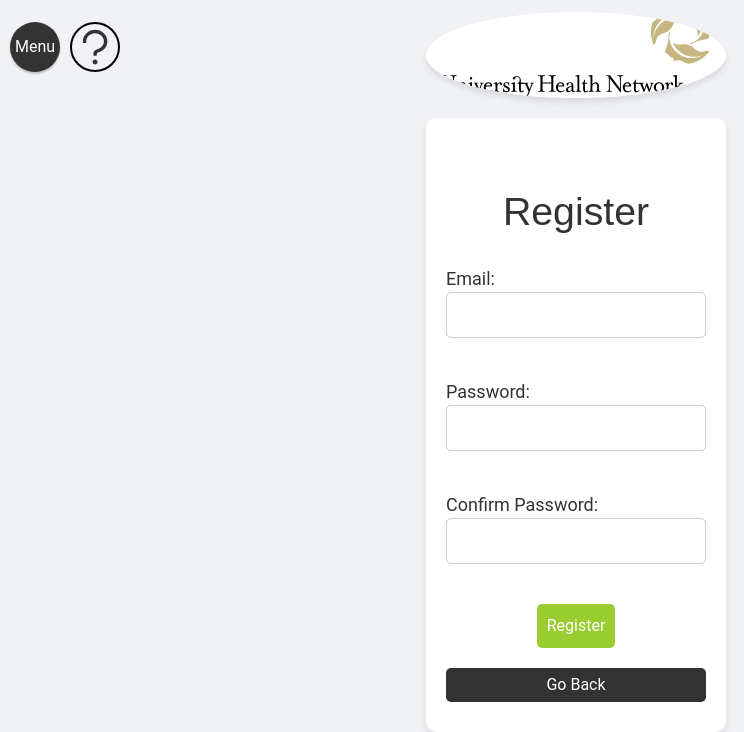
Test: displays error message if registration fails
In the field labelled "Email:": [576, 315] box x1=446 y1=292 x2=706 y2=338, type "valid_email@example.com"
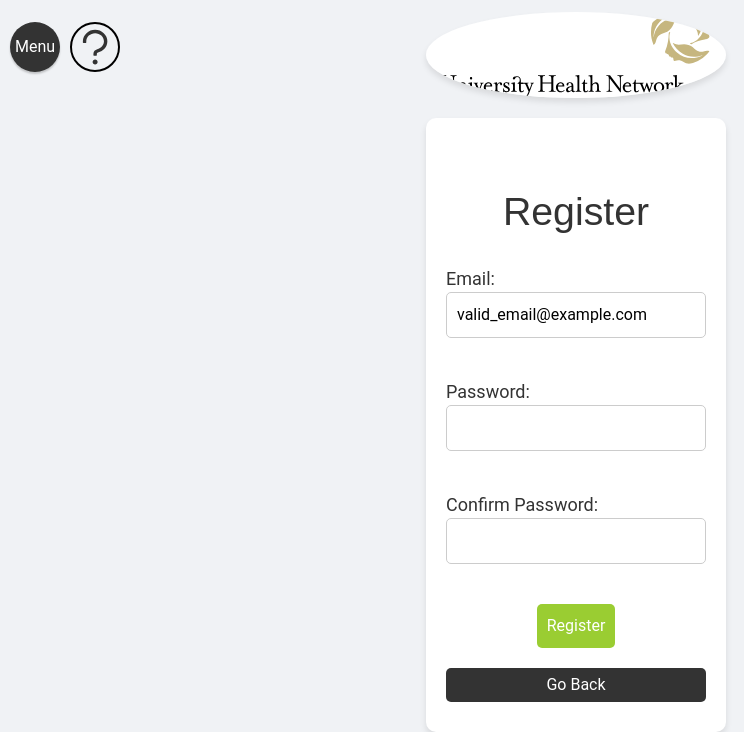
In the password field labelled "Password:": [576, 428] box x1=446 y1=405 x2=706 y2=451, type "password123"
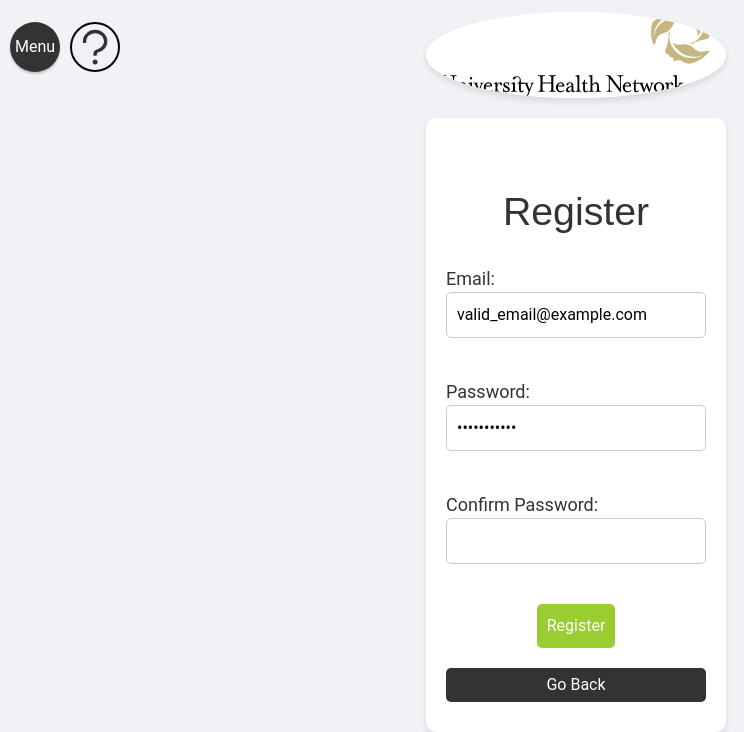
In the password field labelled "Confirm Password:": [576, 541] box x1=446 y1=518 x2=706 y2=564, type "password123"
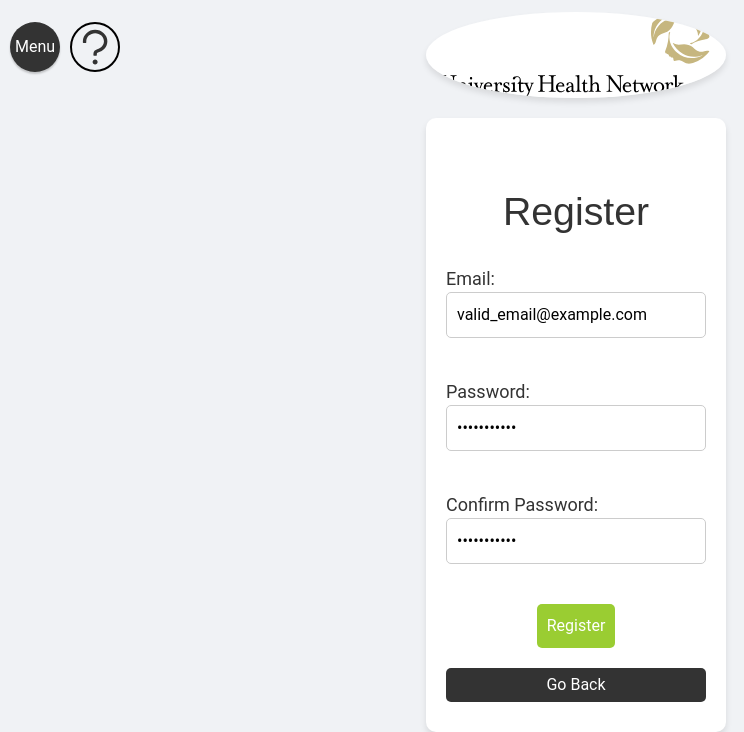
Click the button "Register": [576, 626] box x1=537 y1=604 x2=615 y2=648
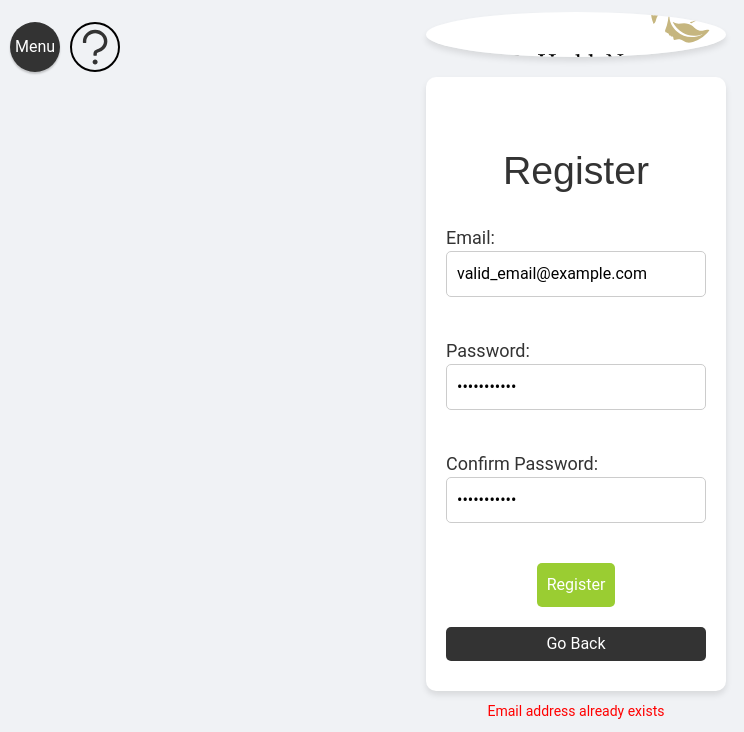
Expected: the text "Email address already exists" is shown, x1=488 y1=701 x2=664 y2=722
